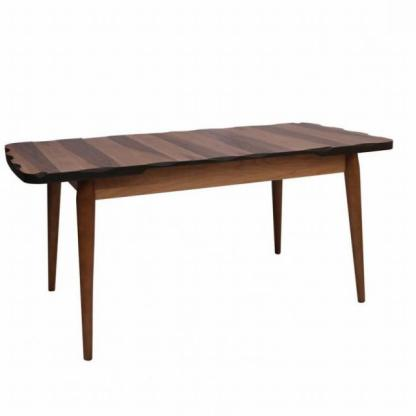Table: (0, 97, 416, 376)
